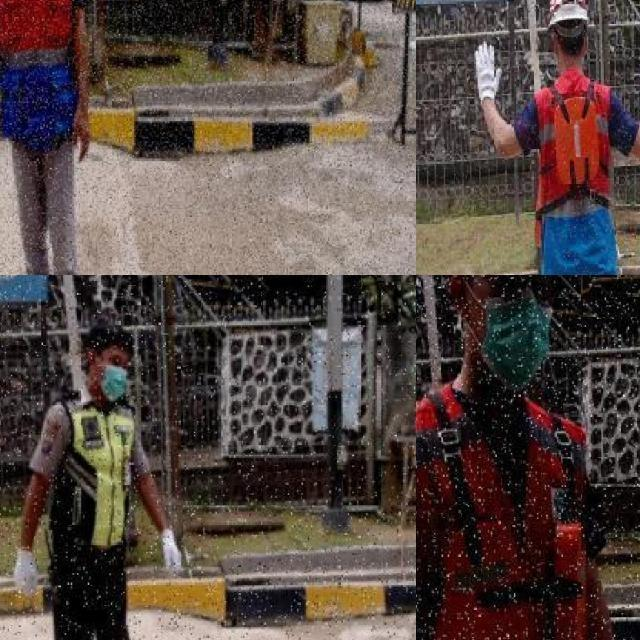apron: (473, 38, 504, 106), (10, 543, 42, 599), (156, 524, 184, 580)
